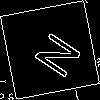N: (25, 25, 84, 80)
